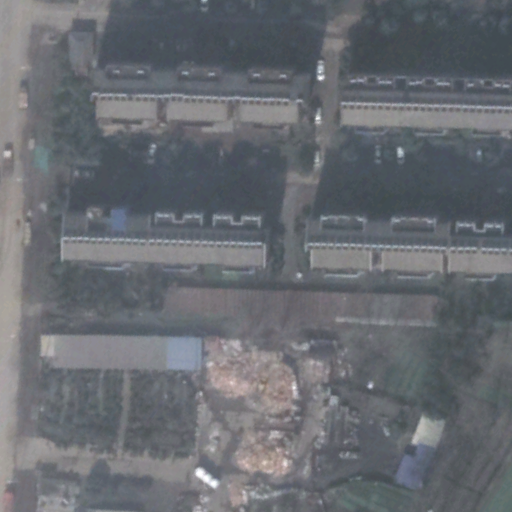msw: (198, 336, 306, 467)
